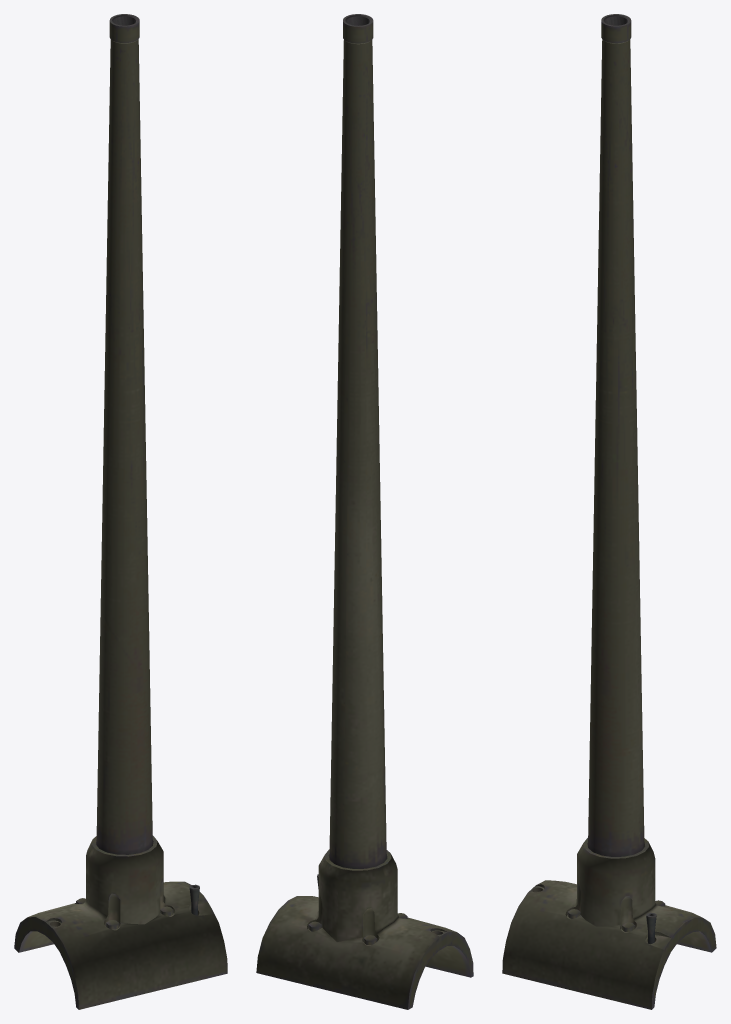
File: Gun_01.glb
The picture shows the model from 3 angles, left to right: view 1: azimuth 30°, elevation 25°; view 2: azimuth 150°, elevation 25°; view 3: azimuth 330°, elevation 25°; orthographic projection.
Visible parts, largest first — view 1: set_0_group_0; view 2: set_0_group_0; view 3: set_0_group_0.
Part boxes in pixels (bbox=[...]): set_0_group_0: bbox=[14, 14, 227, 1009]; set_0_group_0: bbox=[256, 14, 473, 1009]; set_0_group_0: bbox=[502, 14, 716, 1009].
Size of the model in its own units: 0.7499 by 4.55 by 0.5639.
Materials: 1 (1 with a texture image).
